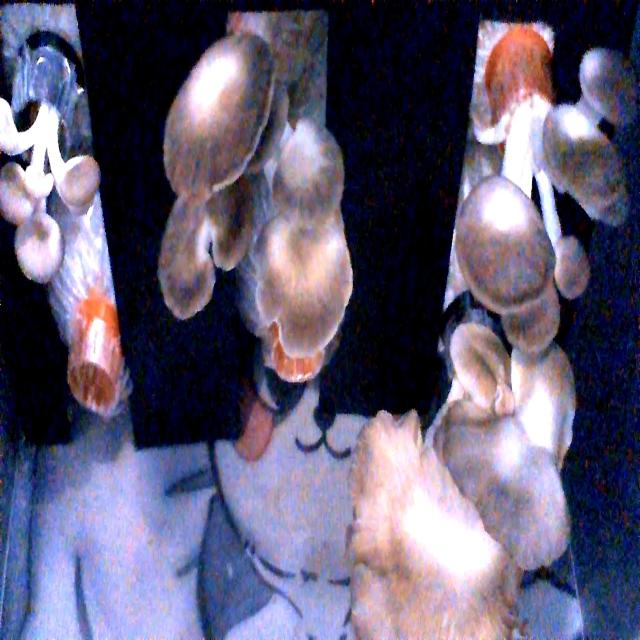big: (334, 326, 579, 640), (165, 51, 354, 396), (461, 49, 640, 345)
nfound: (60, 342, 132, 422)
small: (0, 82, 107, 289)
